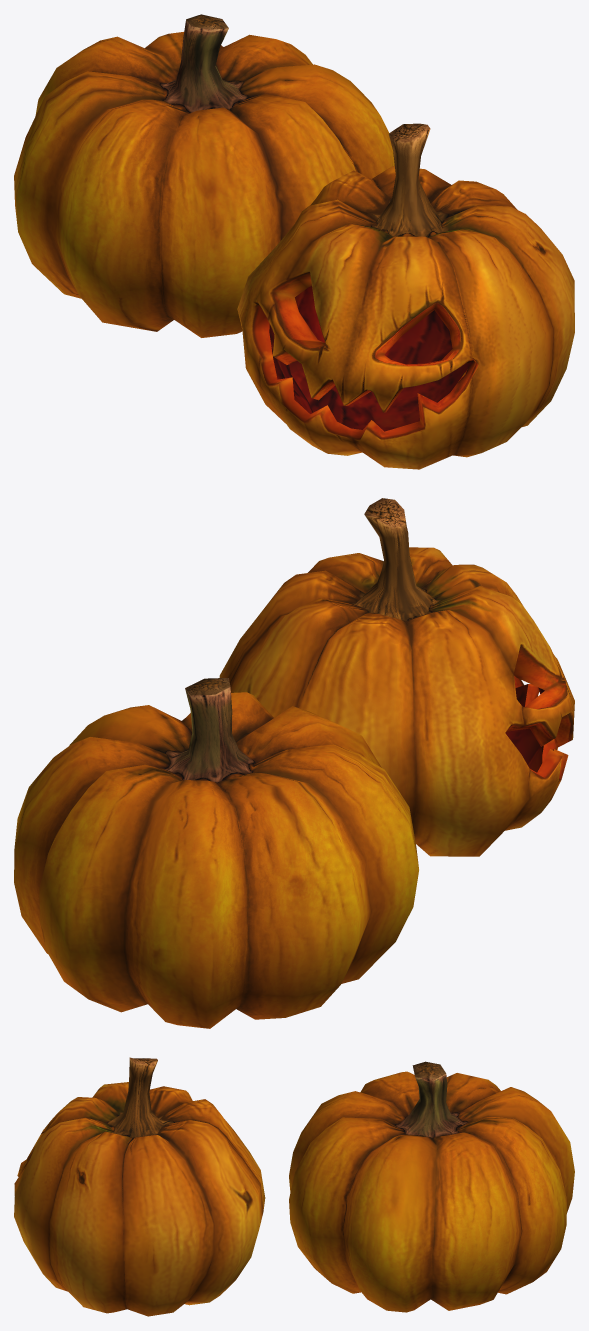
File: pumpkin_halloween.gltf
3 renders of one model, top to bottom at view 1: azimuth 30°, elevation 25°; view 2: azimuth 150°, elevation 25°; view 3: azimuth 270°, elevation 25°, orthographic. The views are drawn at different scales.
Parts seen in each view (by area): view 1: Object001__pumpkin_halloweenMaterial__25_0, Object003_02 - Default_0; view 2: Object001__pumpkin_halloweenMaterial__25_0, Object003_02 - Default_0; view 3: Object001__pumpkin_halloweenMaterial__25_0, Object003_02 - Default_0.
Boxes of the visible parts, x1,y1,x2,y2 form: Object001__pumpkin_halloweenMaterial__25_0: (14,14,394,337); Object003_02 - Default_0: (237,123,574,469); Object001__pumpkin_halloweenMaterial__25_0: (14,678,418,1028); Object003_02 - Default_0: (219,498,574,856); Object001__pumpkin_halloweenMaterial__25_0: (289,1061,574,1312); Object003_02 - Default_0: (14,1057,265,1316).
Size of the model in its own units: 72.53 by 63.61 by 138.
2 materials, 2 textured.
